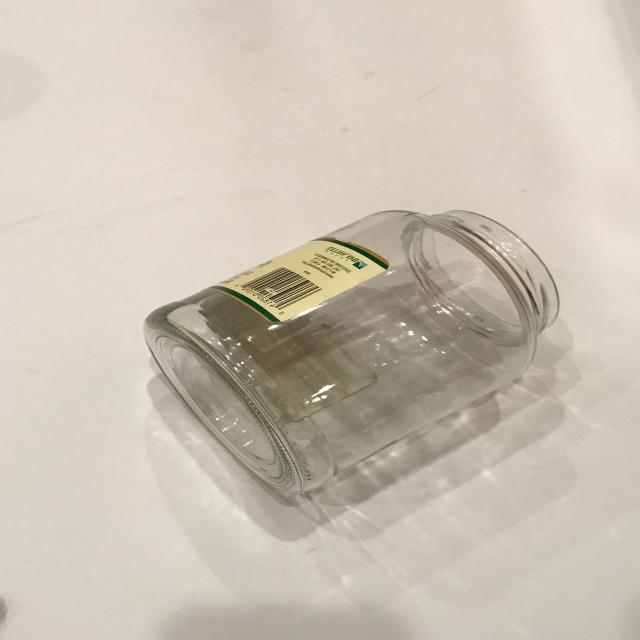glass: (142, 208, 561, 496)
